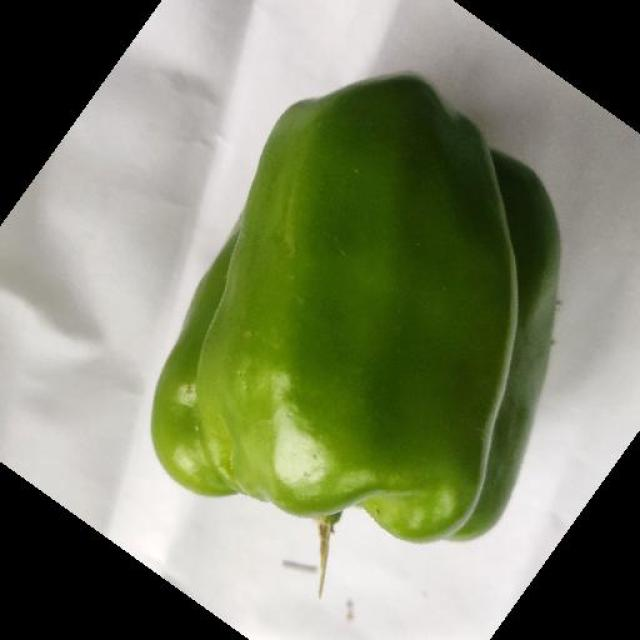Fresh_Capsicum: (200, 93, 517, 526)
